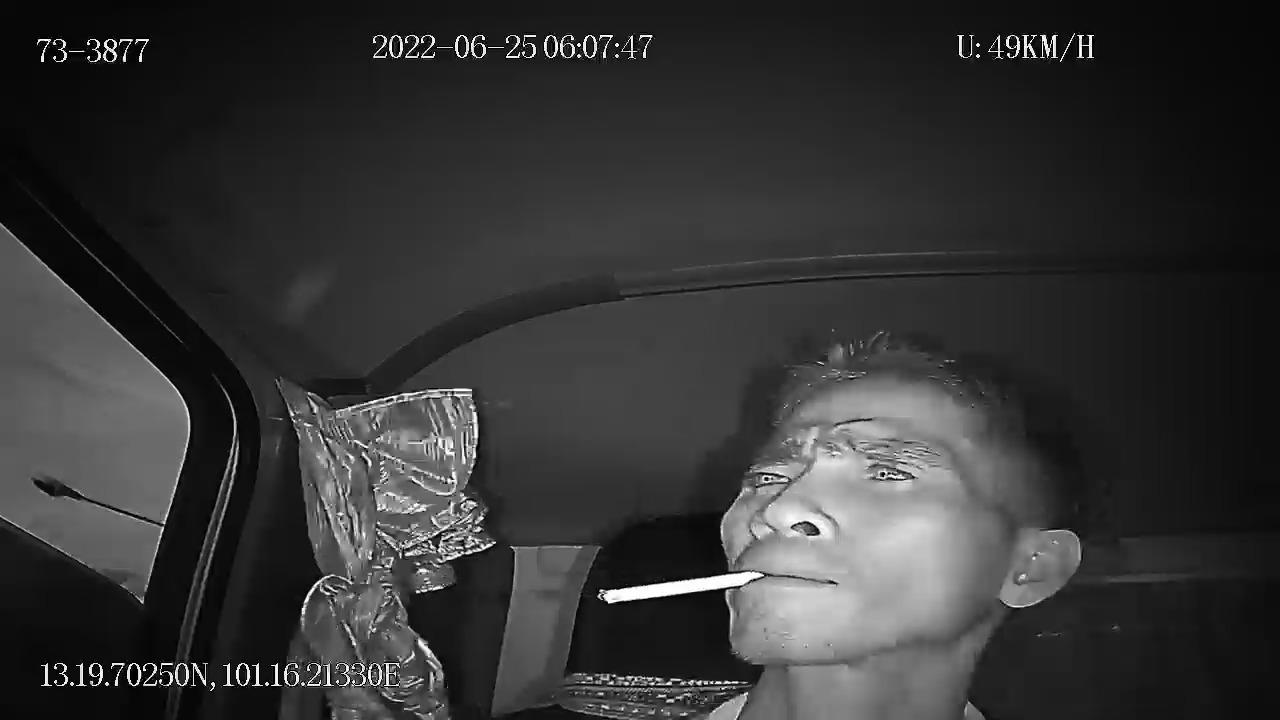Smoking: (578, 564, 798, 615)
